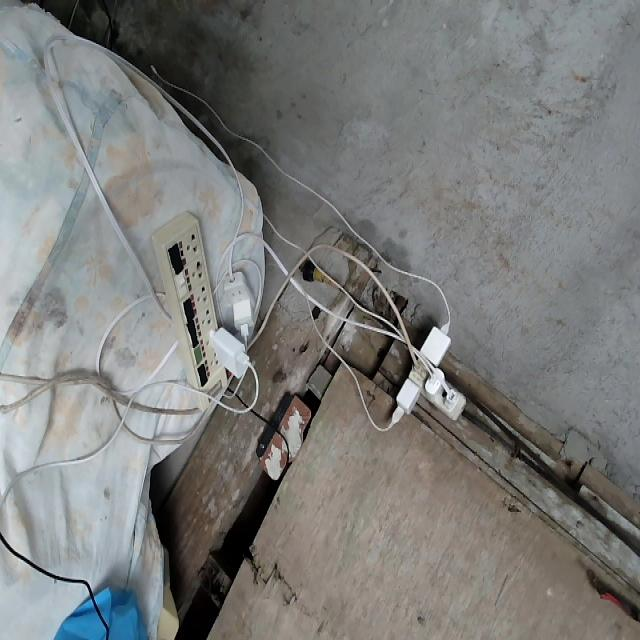-: (384, 316, 466, 429)
